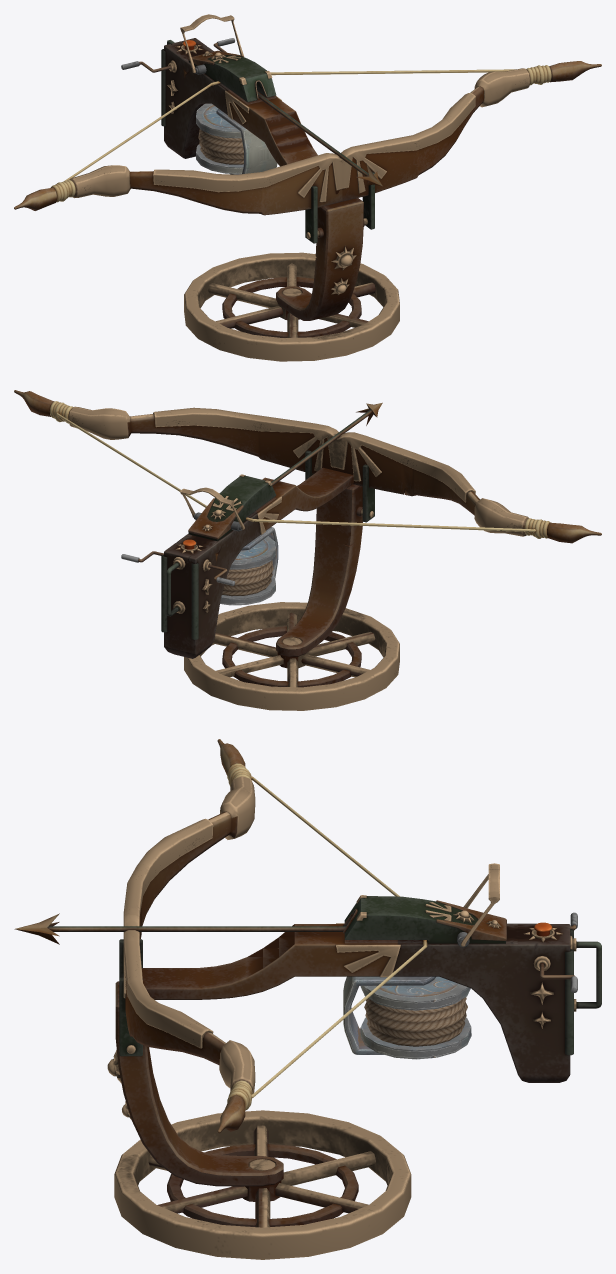
The model's file is Ballista.fbx.
3 views of the same model, one above another, from view 1: azimuth 30°, elevation 25°; view 2: azimuth 150°, elevation 25°; view 3: azimuth 270°, elevation 25° (orthographic). The views are drawn at different scales.
Parts seen in each view (by area): view 1: Main, Base, Middle_Arm, RopeWheel, Top_Lever_Piece, String, RopeBracket, Arrow, Top_Lever; view 2: Main, Base, Middle_Arm, Top_Lever_Piece, RopeWheel, String, Arrow, Top_Lever; view 3: Main, Base, Middle_Arm, RopeWheel, Top_Lever_Piece, Arrow, RopeBracket, String, Top_Lever.
Boxes of the visible parts, box(x1,y1,x2,y2) form: Main: box(14, 38, 601, 243); Base: box(184, 252, 399, 361); Middle_Arm: box(276, 198, 363, 320); RopeWheel: box(196, 103, 243, 173); Top_Lever_Piece: box(188, 50, 276, 102); String: box(63, 69, 515, 181); RopeBracket: box(216, 109, 277, 174); Arrow: box(257, 92, 382, 186); Top_Lever: box(180, 14, 244, 73); Main: box(14, 390, 601, 658); Base: box(184, 602, 399, 710); Middle_Arm: box(276, 484, 362, 668); Top_Lever_Piece: box(188, 474, 276, 541); RopeWheel: box(220, 536, 275, 605); String: box(56, 412, 535, 532); Arrow: box(271, 402, 382, 485); Top_Lever: box(180, 487, 244, 529); Main: box(119, 739, 601, 1133); Base: box(114, 1110, 411, 1259); Middle_Arm: box(107, 981, 283, 1201); RopeWheel: box(360, 976, 471, 1059); Top_Lever_Piece: box(343, 895, 506, 947); Arrow: box(14, 913, 345, 944); RopeBracket: box(343, 976, 435, 1054); String: box(250, 776, 427, 1098); Top_Lever: box(461, 863, 499, 946).
Bounding box in the file's own units: 322 × 125 × 204.
